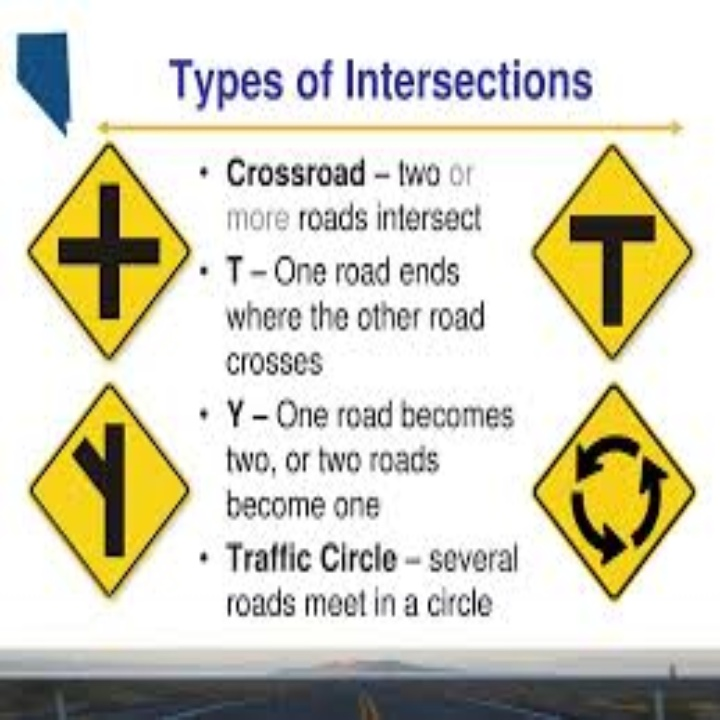inter: (46, 179, 168, 327)
